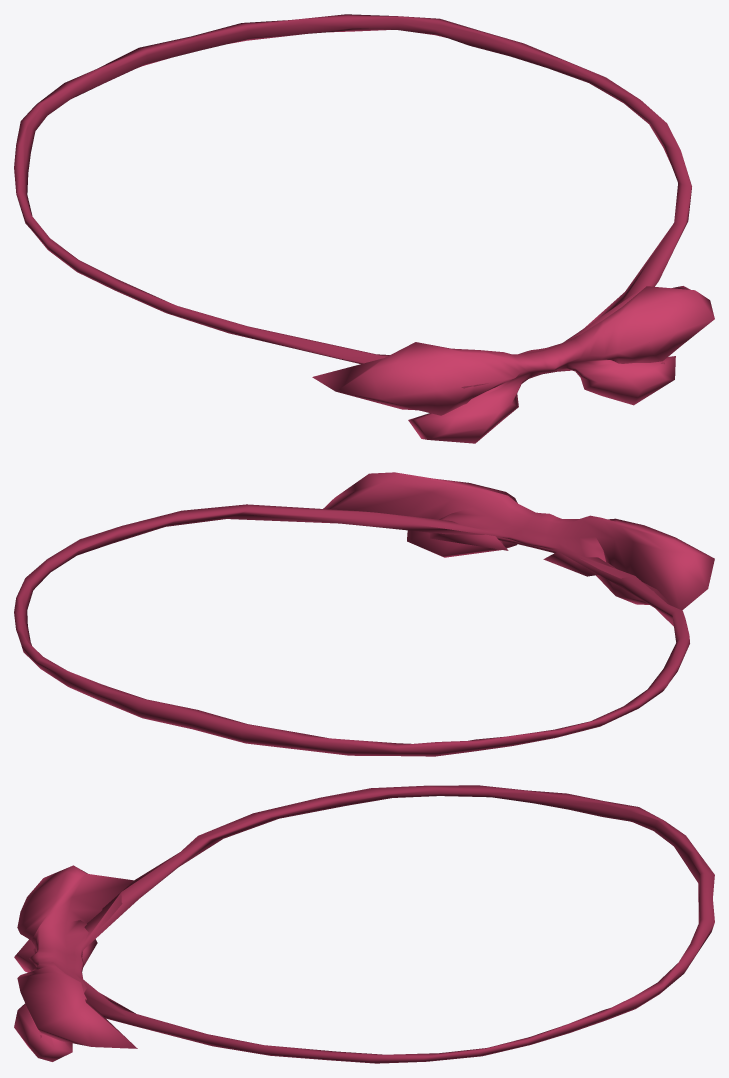
File: cuello_pajarita.glb
3 views of the same model, one above another, from view 1: azimuth 30°, elevation 25°; view 2: azimuth 150°, elevation 25°; view 3: azimuth 270°, elevation 25° (orthographic). The views are drawn at different scales.
Parts seen in each view (by area): view 1: pieza; view 2: pieza; view 3: pieza.
Part boxes in pixels (x1=…): pieza: x1=14, y1=14, x2=714, y2=443; pieza: x1=14, y1=472, x2=714, y2=756; pieza: x1=14, y1=785, x2=714, y2=1063.
Bounding box in the file's own units: 0.7582 × 0.1511 × 0.8267.
